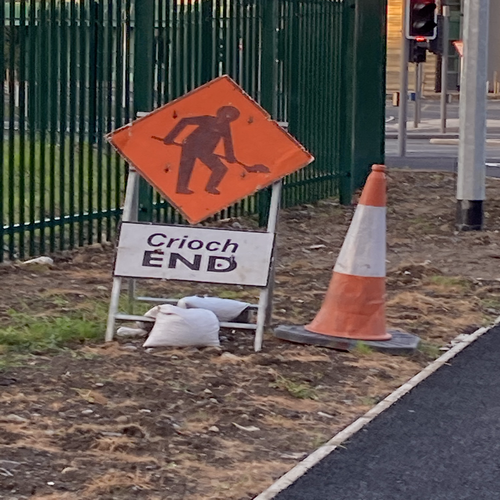Road Work: (108, 69, 310, 221)
